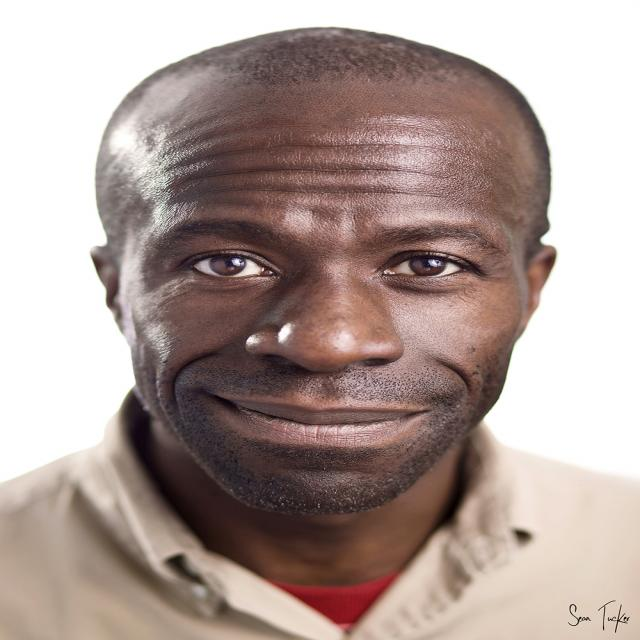bald: (85, 20, 589, 272)
